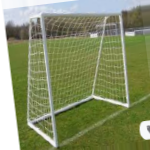goals: (25, 10, 130, 146)
